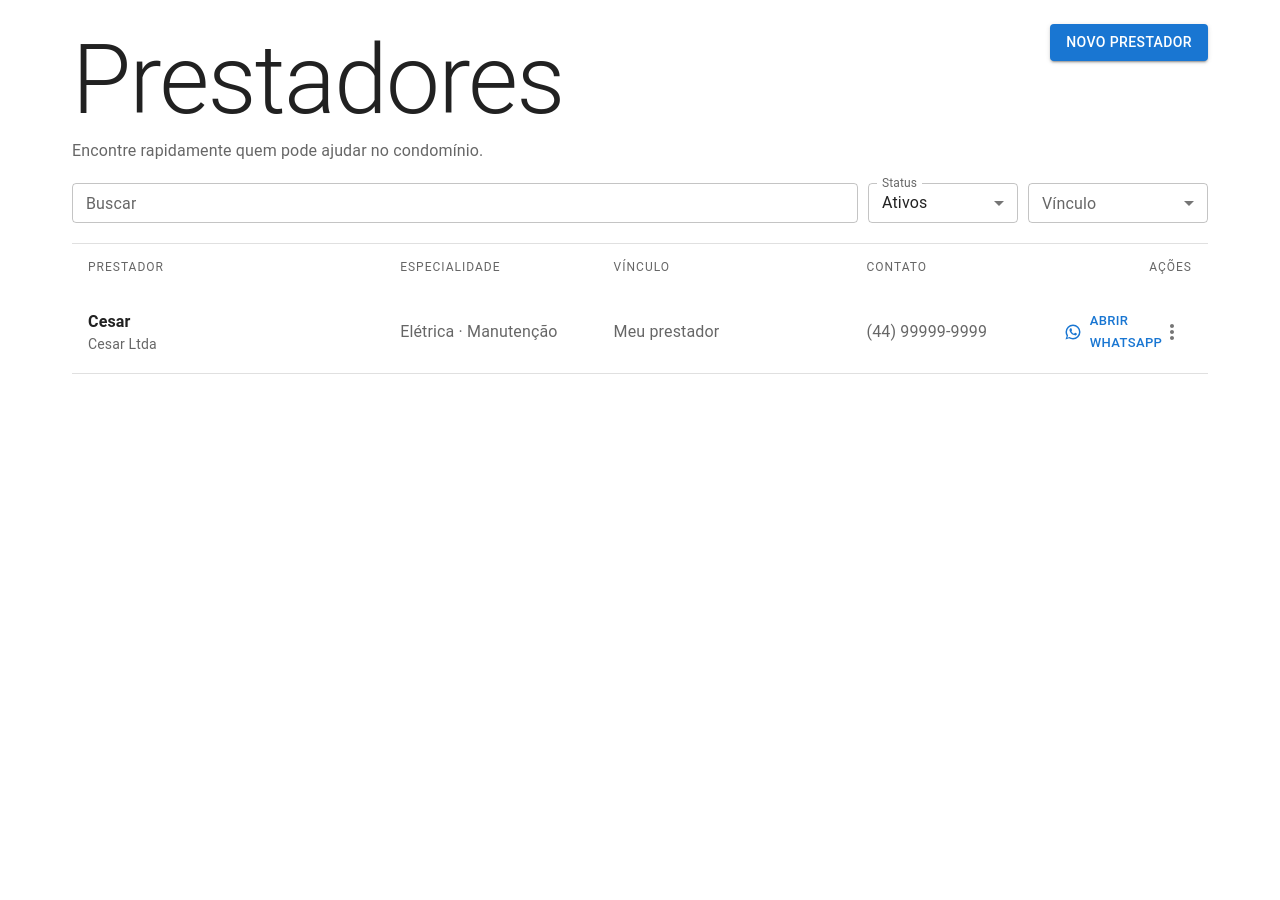
Scenario: ServiceProvidersPage WhatsApp action › opens the contextual detail and secondary actions
This screenshot has width=1280, height=900.
What coordinates should you click on to do the following:
click the list item with aria-label "Ver detalhes de Cesar"
I would click on:
 (640, 333)
Its box is [72, 292, 1208, 374].
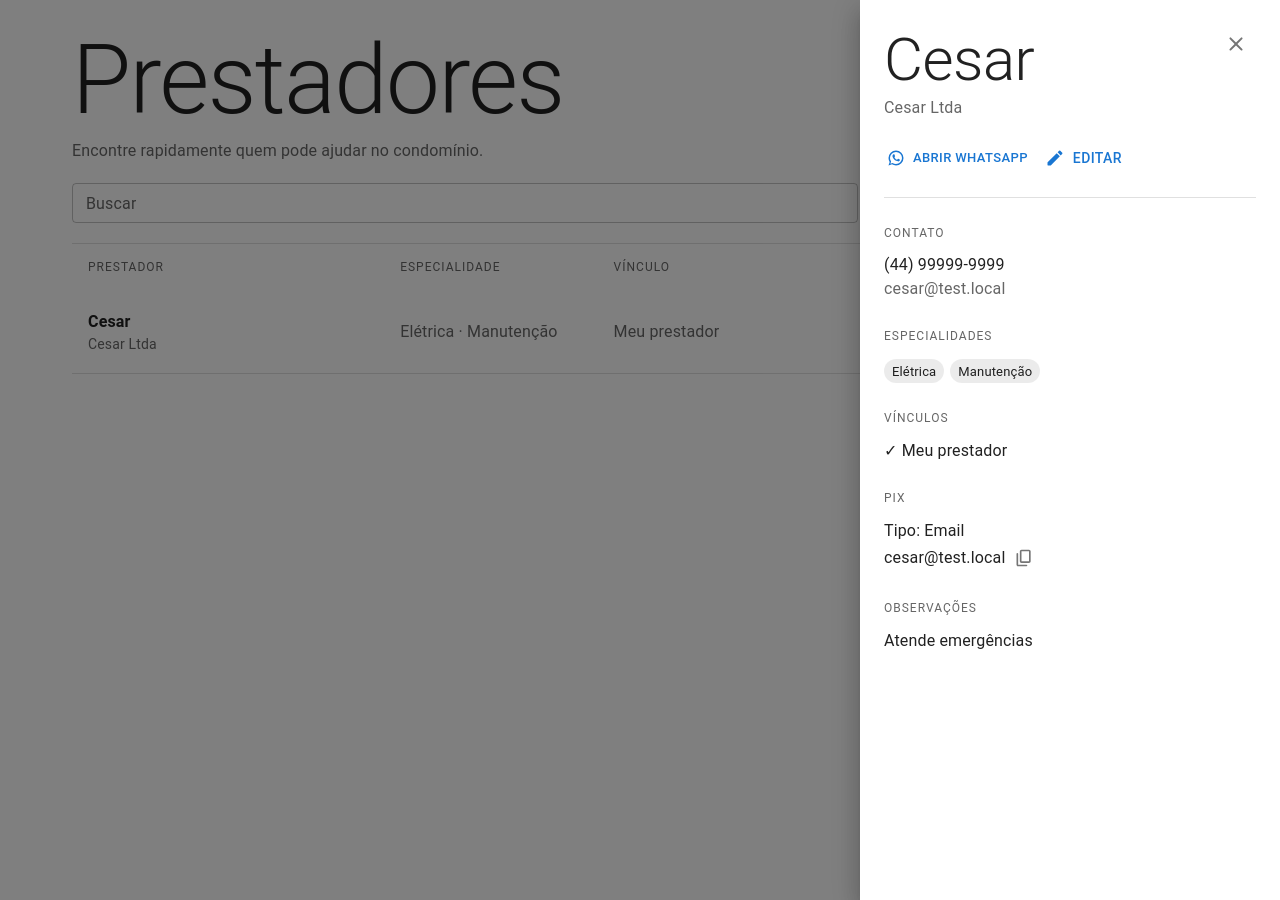
Now the text "Atende emergências" is shown, box [884, 631, 1033, 650]
What coordinates should you click on to do the following:
click the button named "Fechar detalhes"
I would click on:
 (1236, 44)
Its box is [1216, 24, 1256, 64].
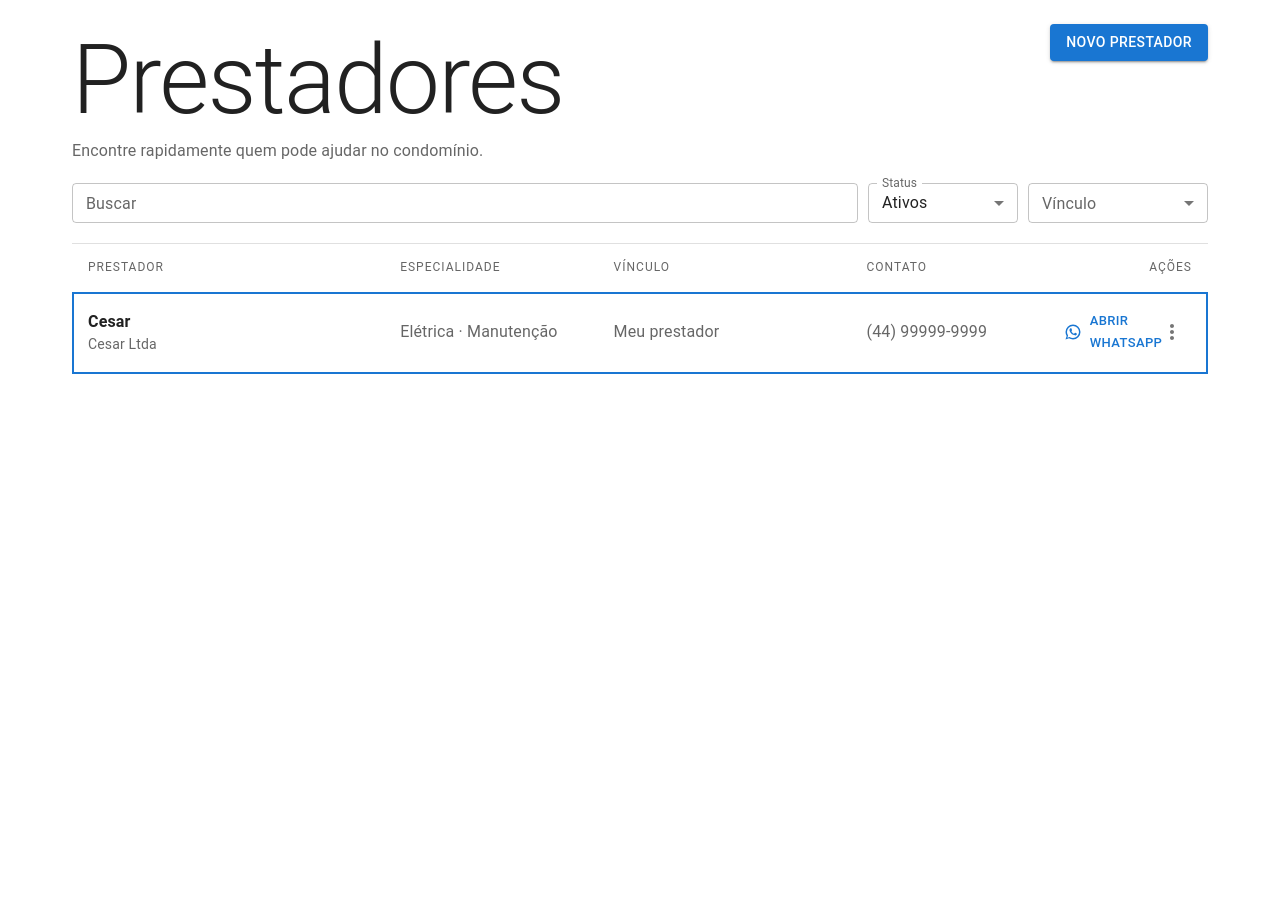
What coordinates should you click on to do the following:
click the button named "Mais ações de Cesar"
I would click on:
 (1172, 332)
Its box is [1152, 306, 1192, 359].
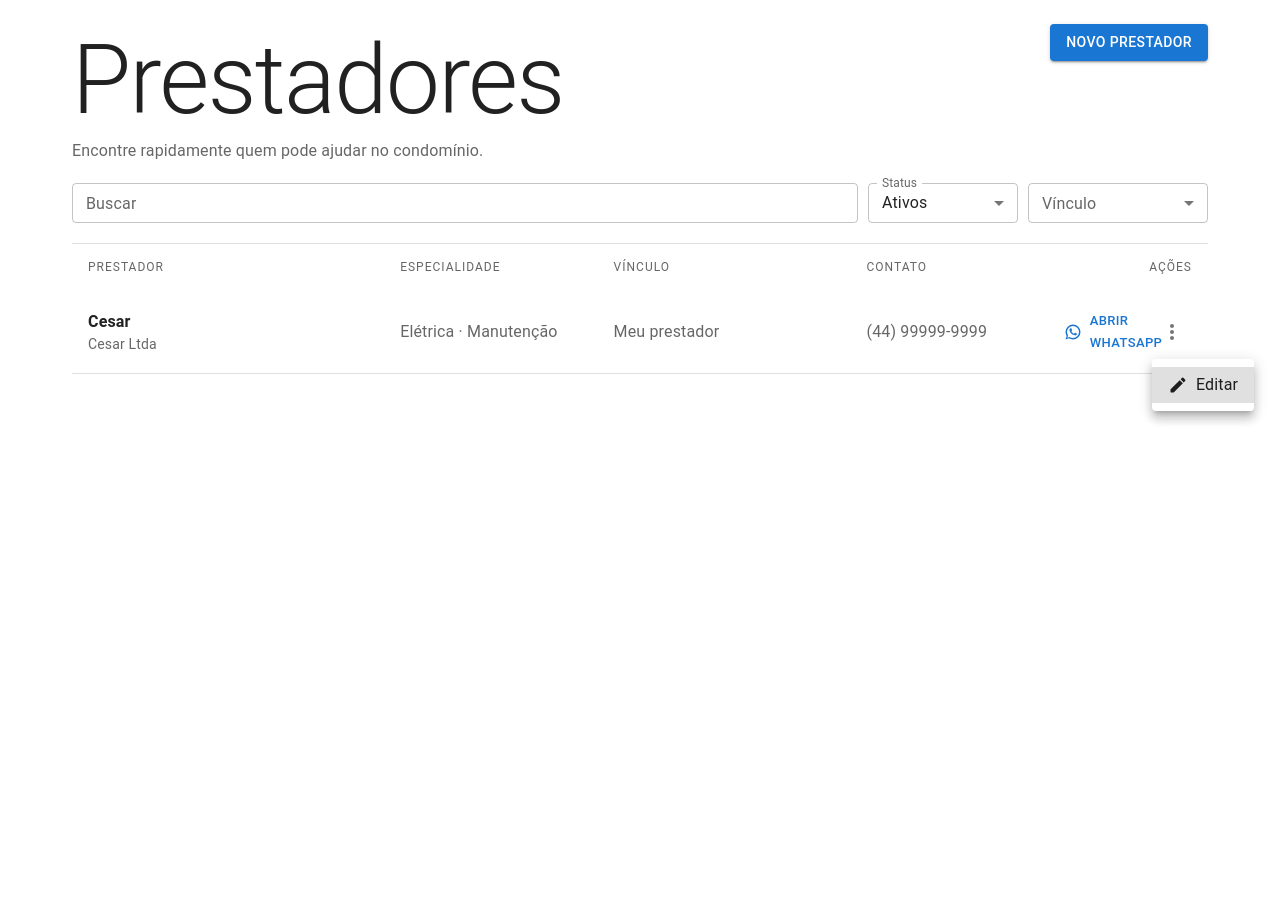
Now the menu item "Editar" is shown, box [1152, 367, 1254, 403]
